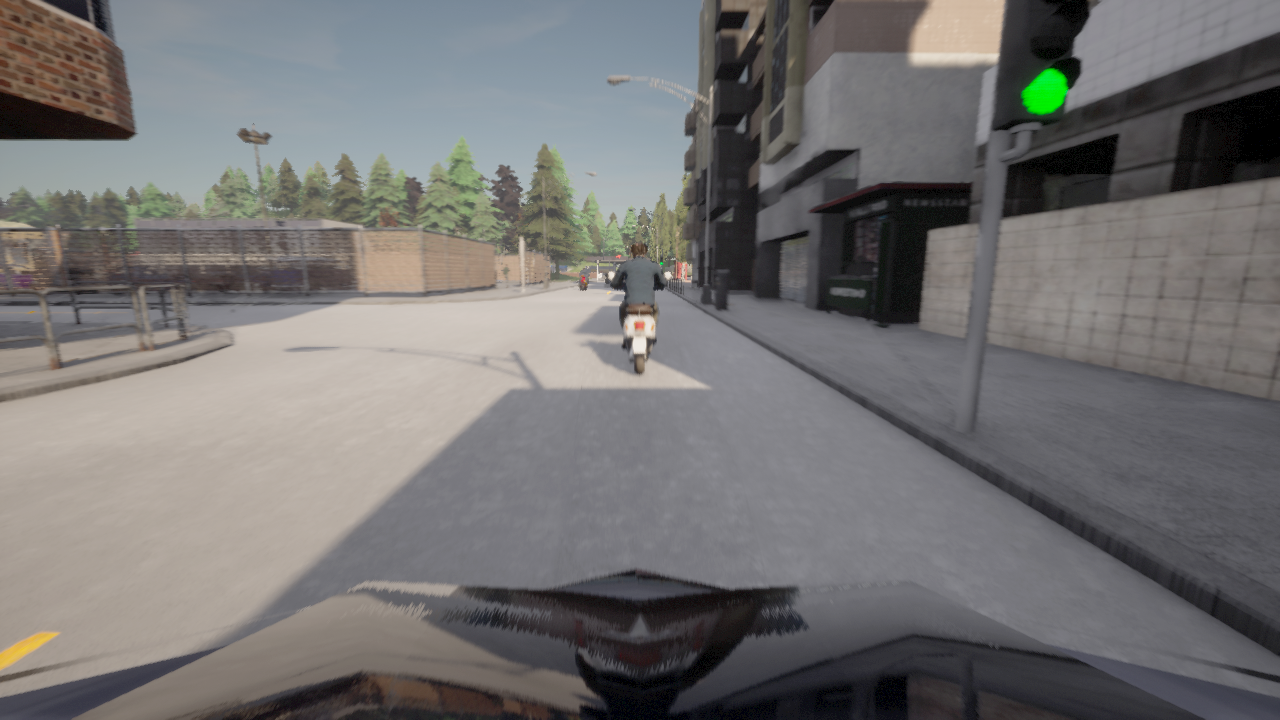cyclist: (0, 569, 1279, 719), (608, 271, 671, 374), (273, 257, 351, 294), (29, 260, 107, 290), (107, 266, 186, 294), (190, 268, 253, 294), (231, 266, 279, 290), (0, 264, 32, 289), (579, 274, 587, 290), (31, 281, 35, 290), (606, 275, 609, 282)
pedestrian: (502, 264, 511, 288)
